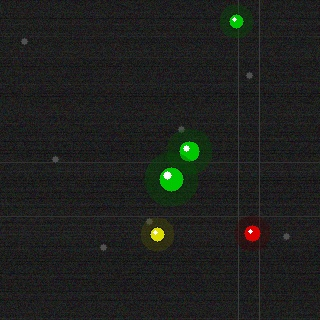green_normal: (157, 165, 185, 193), (177, 139, 201, 163), (227, 12, 245, 30)
red_fault: (242, 223, 262, 243)
yellow_warning: (148, 225, 166, 243)
